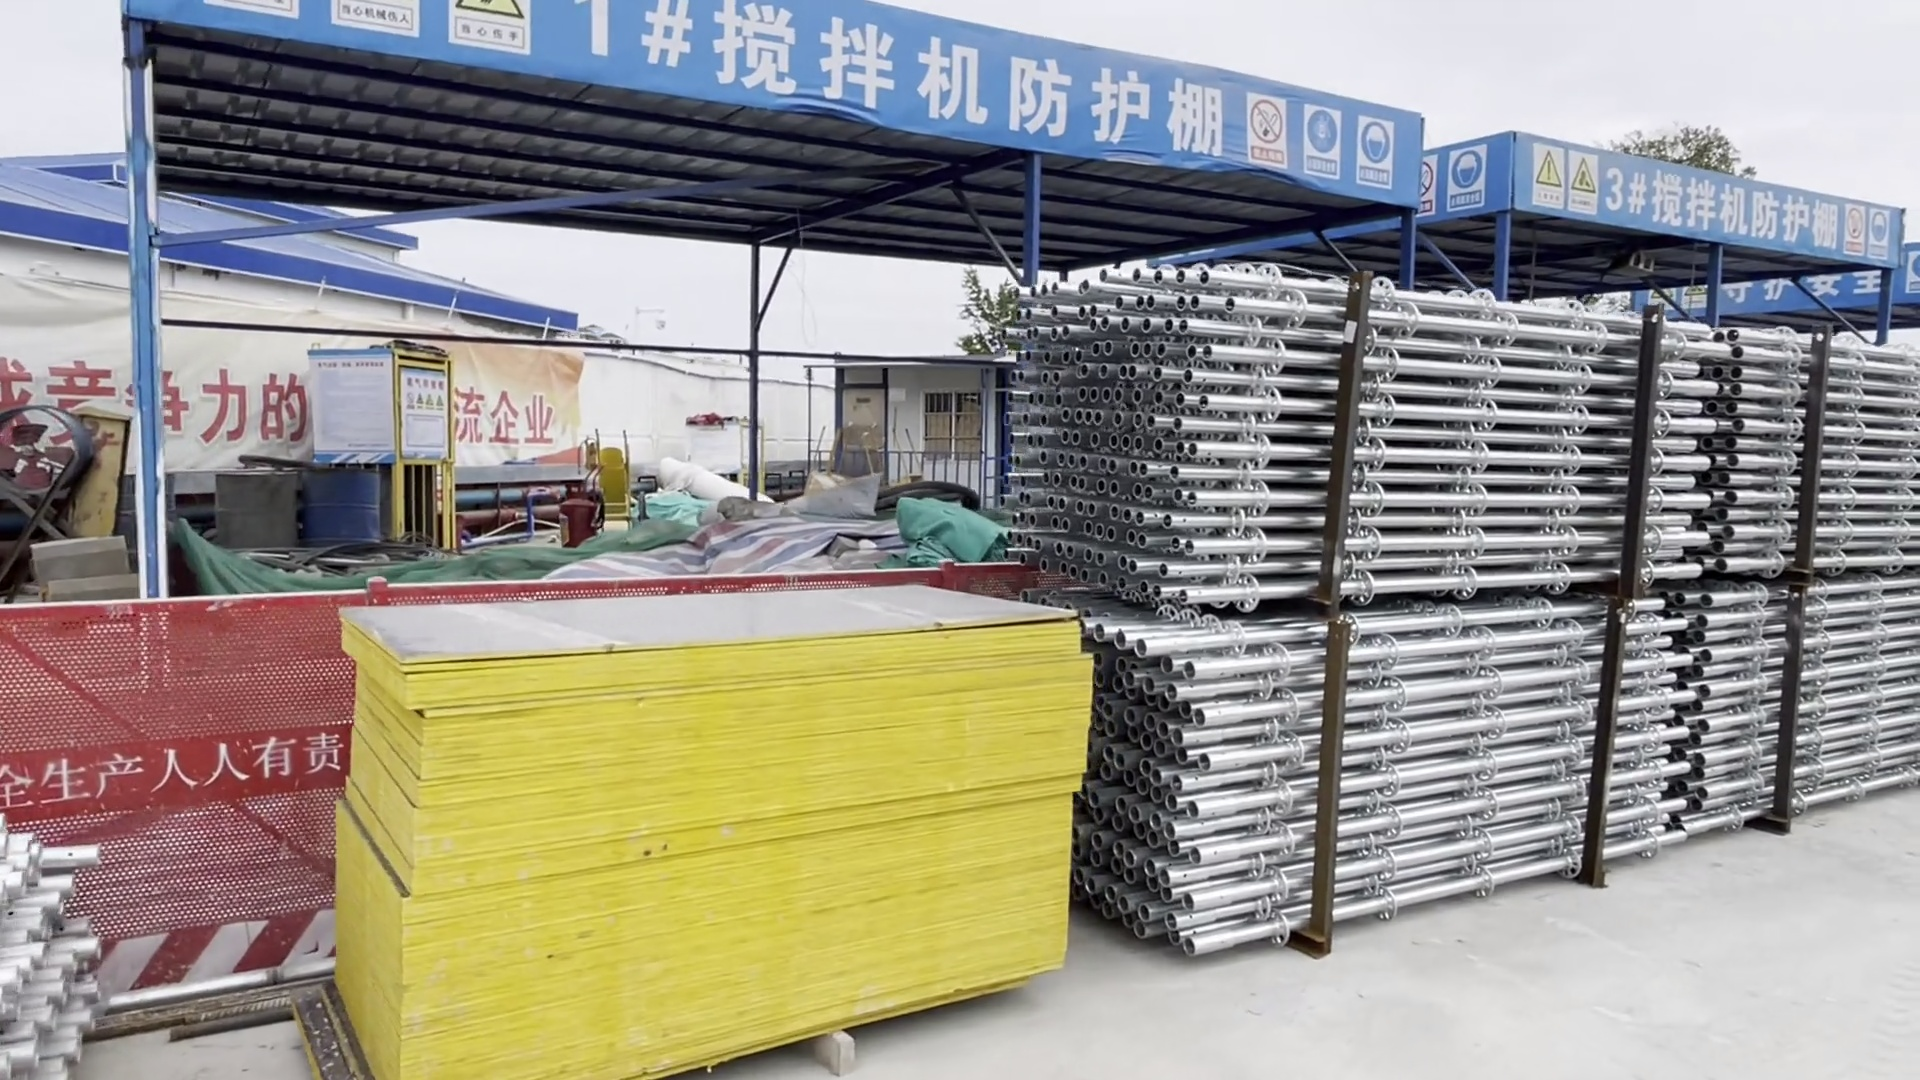board: (285, 585, 1080, 1080)
scaffold: (978, 258, 1920, 593), (1102, 589, 1920, 964)
slogan: (22, 365, 583, 455), (1226, 95, 1476, 218), (272, 1, 562, 70), (1515, 140, 1598, 212)
